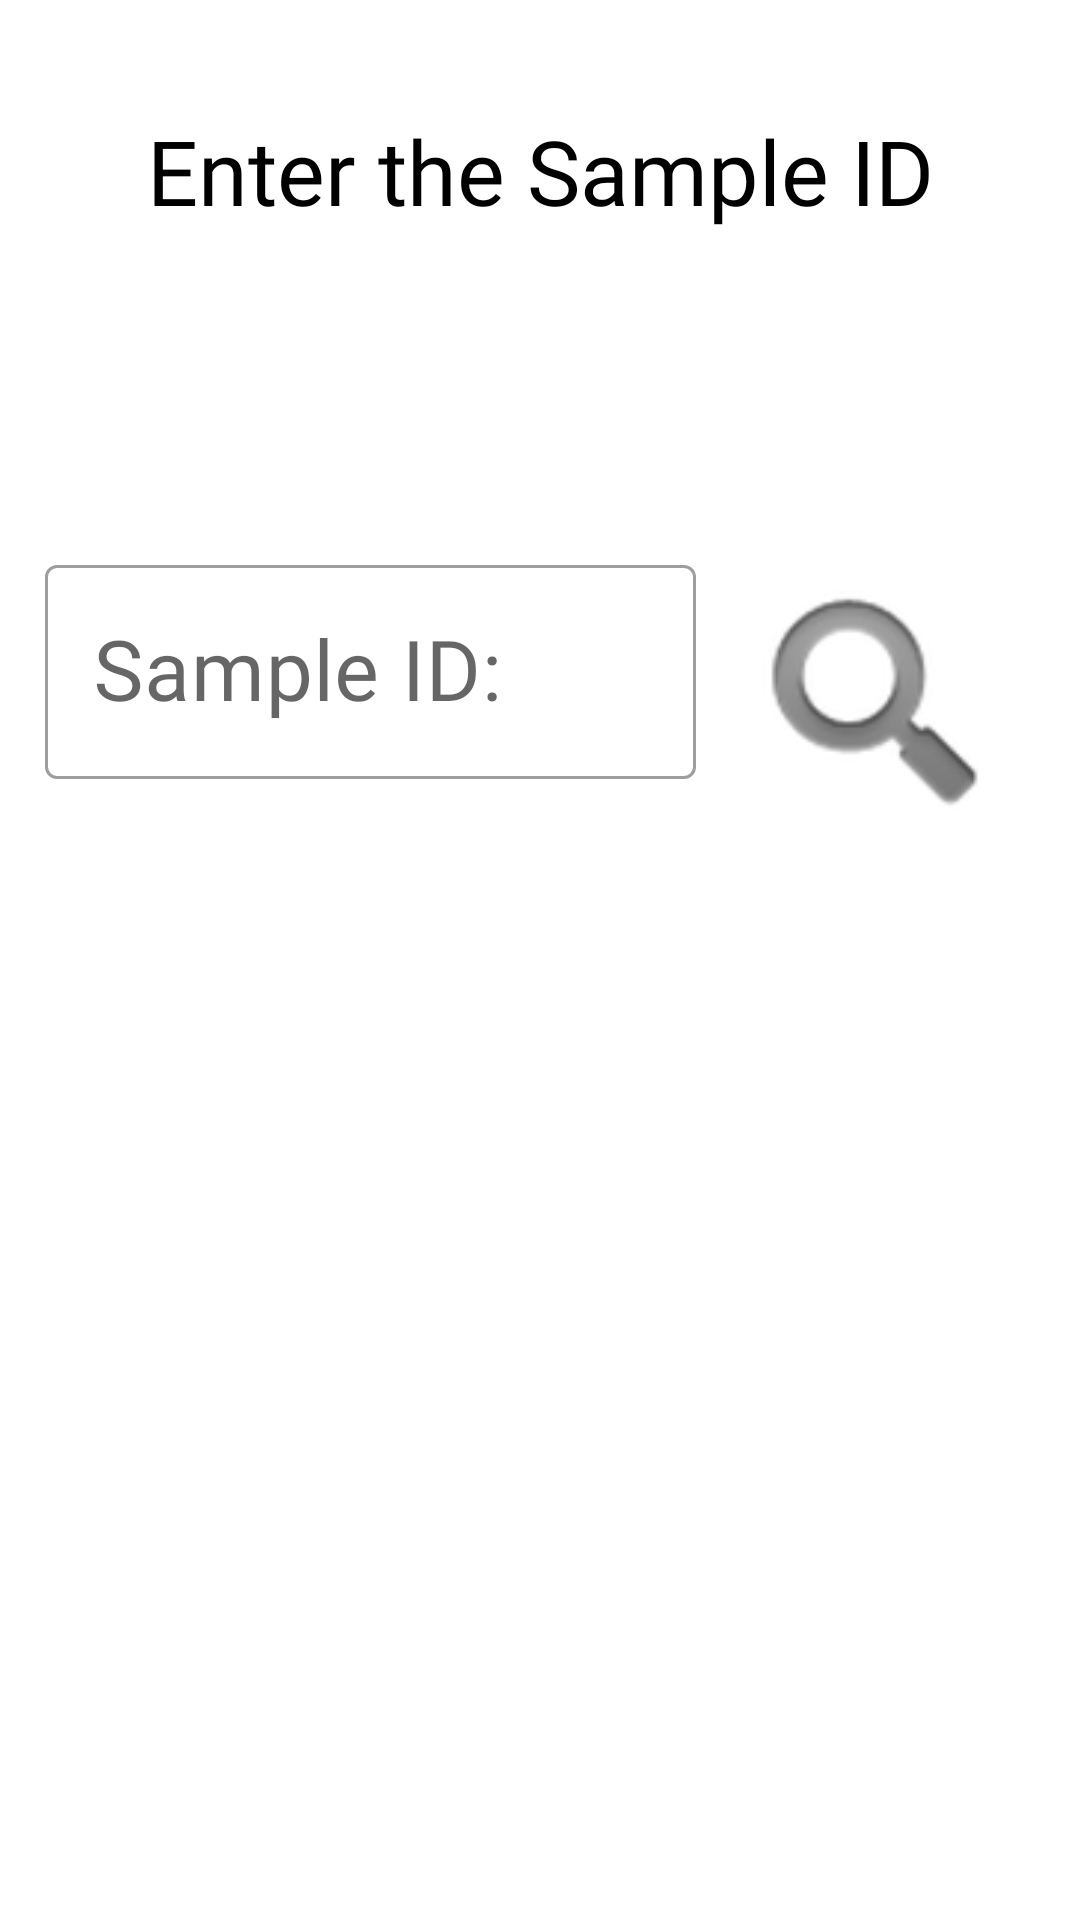

Named icons in this screenshot (1080w x 1920h) and their centers, (x=x, y=y):
search category: (x=874, y=701)
